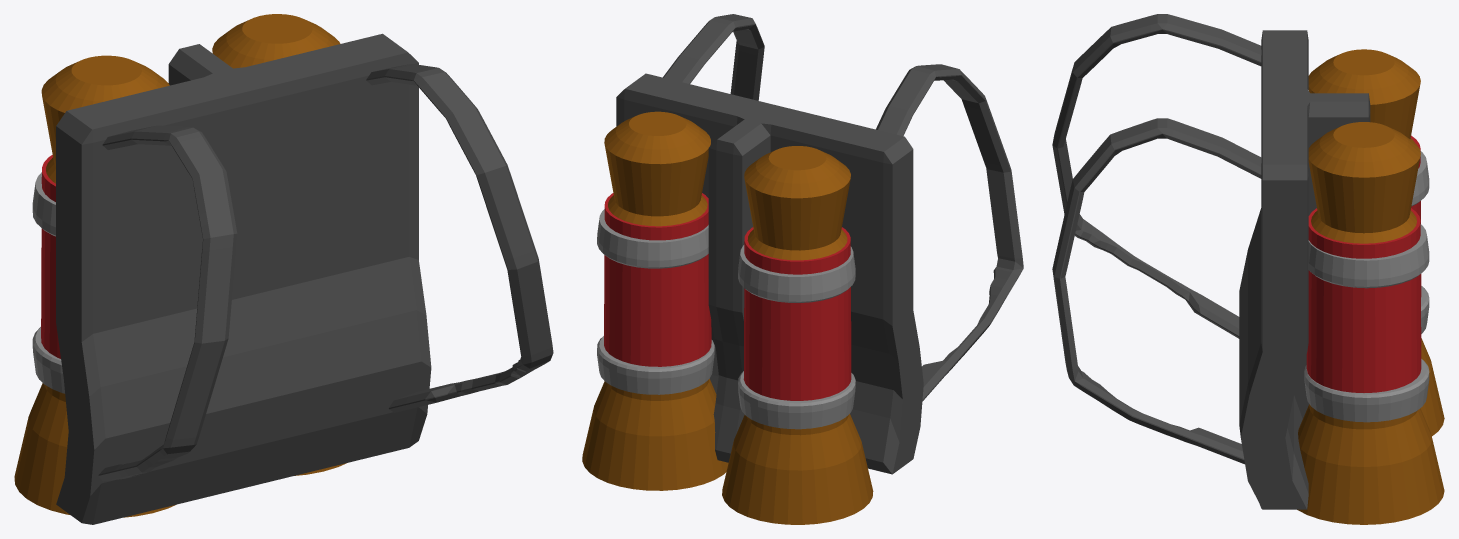
The model's file is Jetpack.fbx.
3 views of the same model, side by side, from view 1: azimuth 30°, elevation 25°; view 2: azimuth 150°, elevation 25°; view 3: azimuth 270°, elevation 25° (orthographic). The views are drawn at different scales.
Visible parts, largest first — view 1: Cylinder.003; view 2: Cylinder.003; view 3: Cylinder.003.
Boxes of the visible parts, x1,y1,x2,y2 form: Cylinder.003: (14, 14, 553, 524); Cylinder.003: (582, 14, 1023, 524); Cylinder.003: (1052, 14, 1444, 524).
Bounding box in the file's own units: 22.04 × 23.77 × 22.
